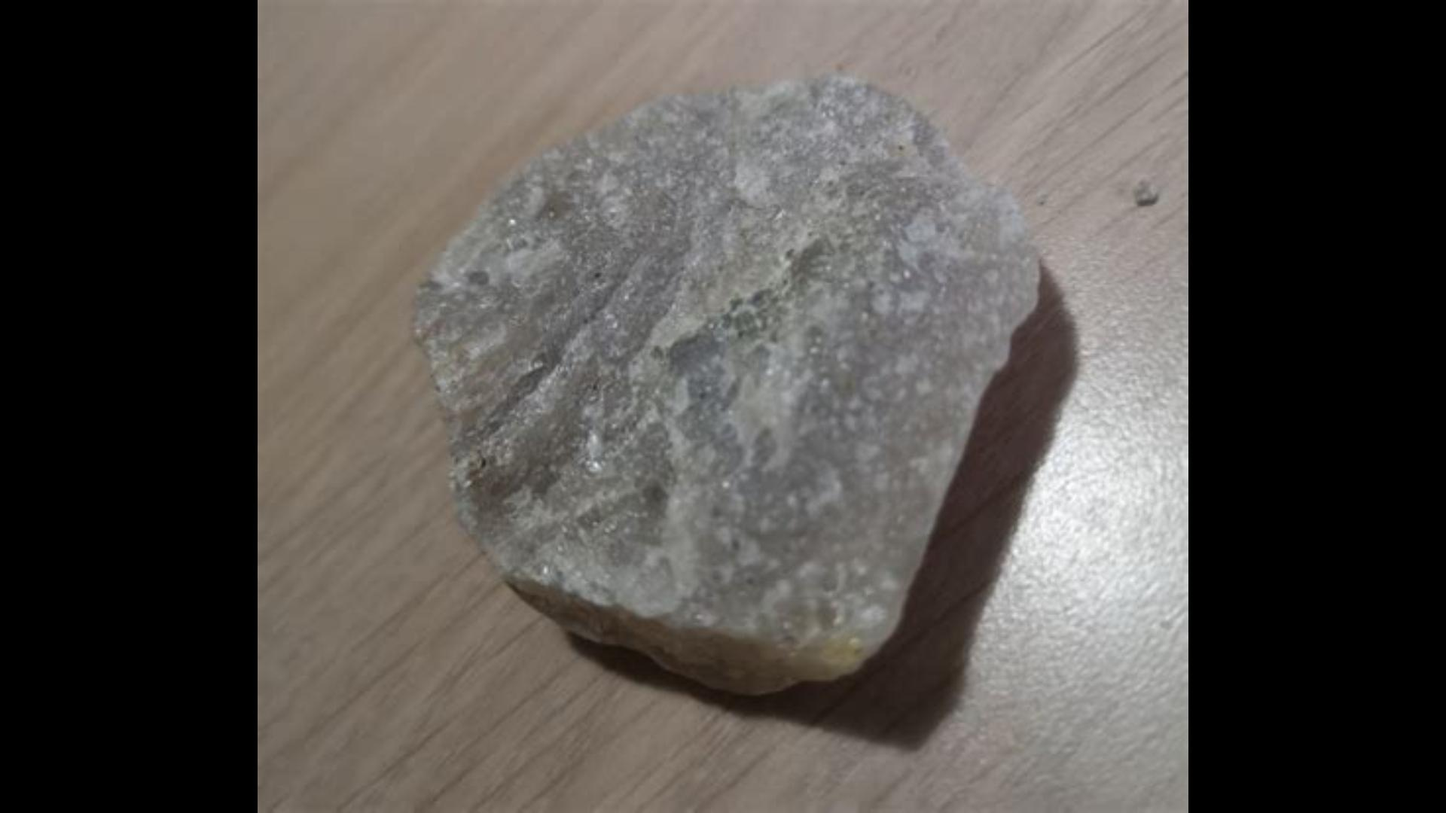rock: (417, 79, 1034, 689)
